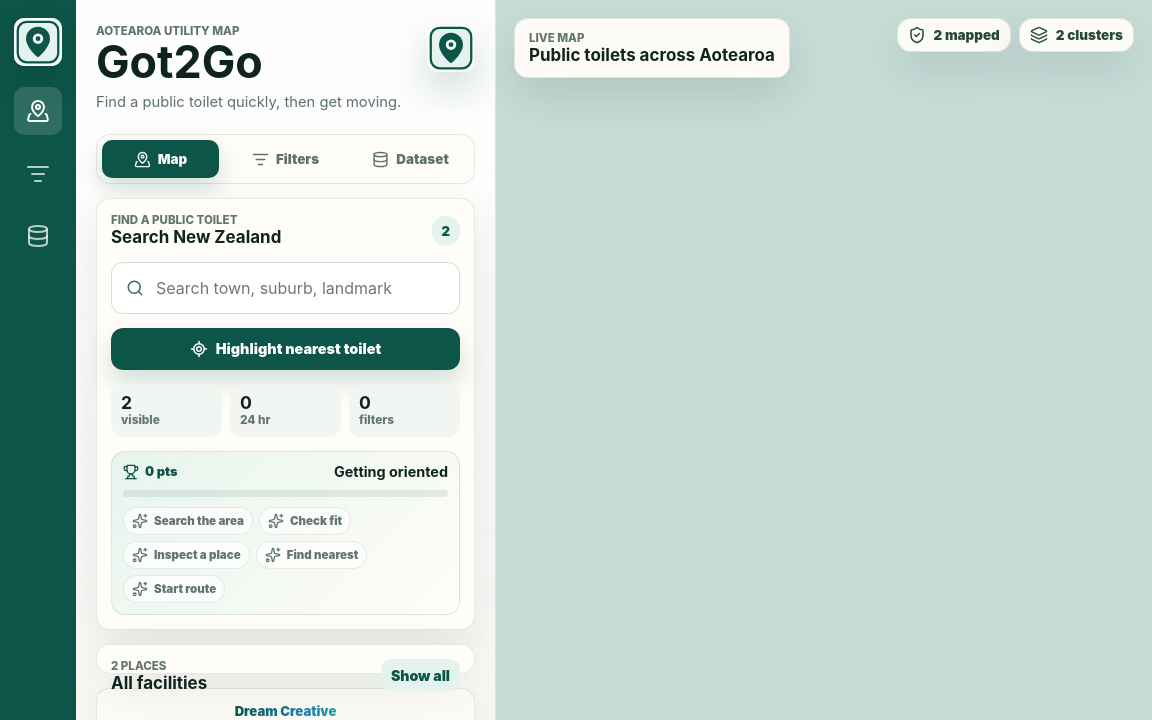
App interactions › uses precise location to highlight the nearest toilet
What coordinates should you click on to do the following:
click the button "Highlight nearest toilet"
I would click on:
 (286, 349)
Its box is [111, 328, 460, 370].
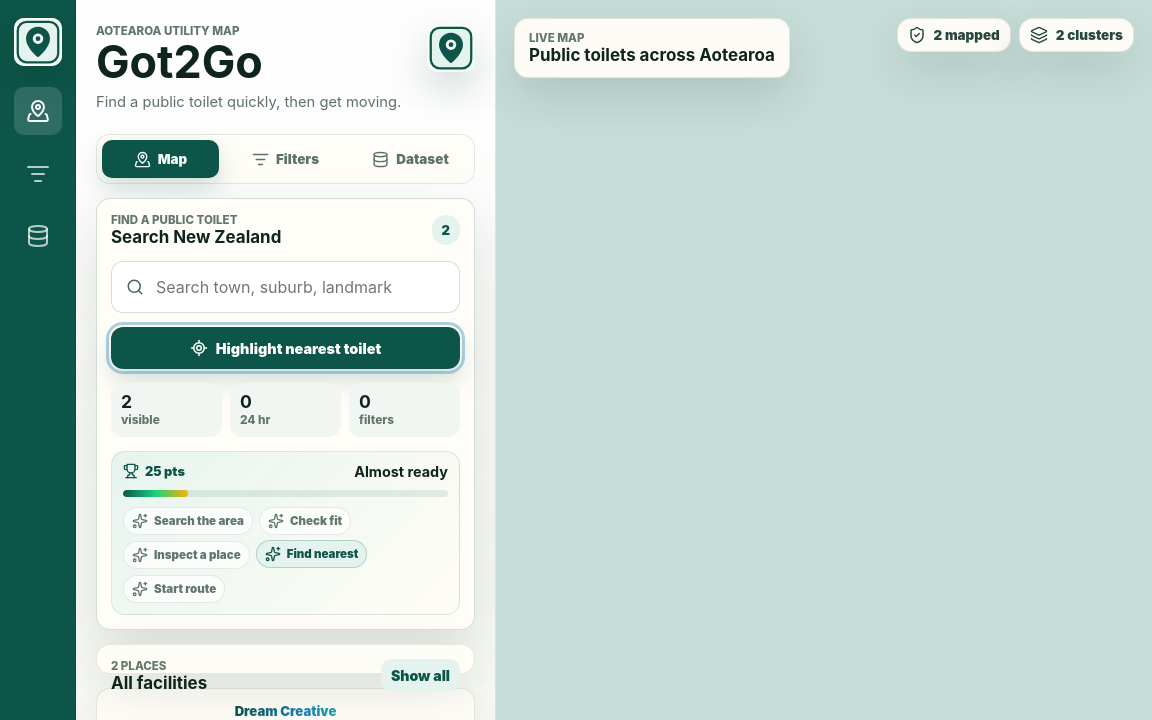
Check: the text "25 pts" is shown, box [123, 464, 185, 480]
